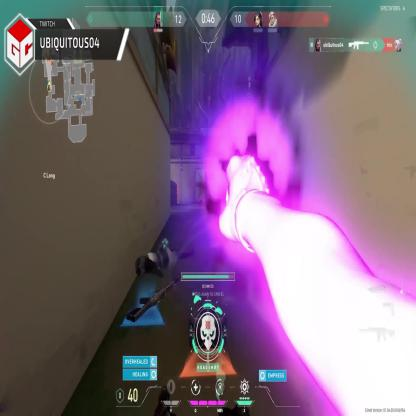enemy: (175, 186, 178, 204)
enemy_head: (176, 185, 178, 189)
